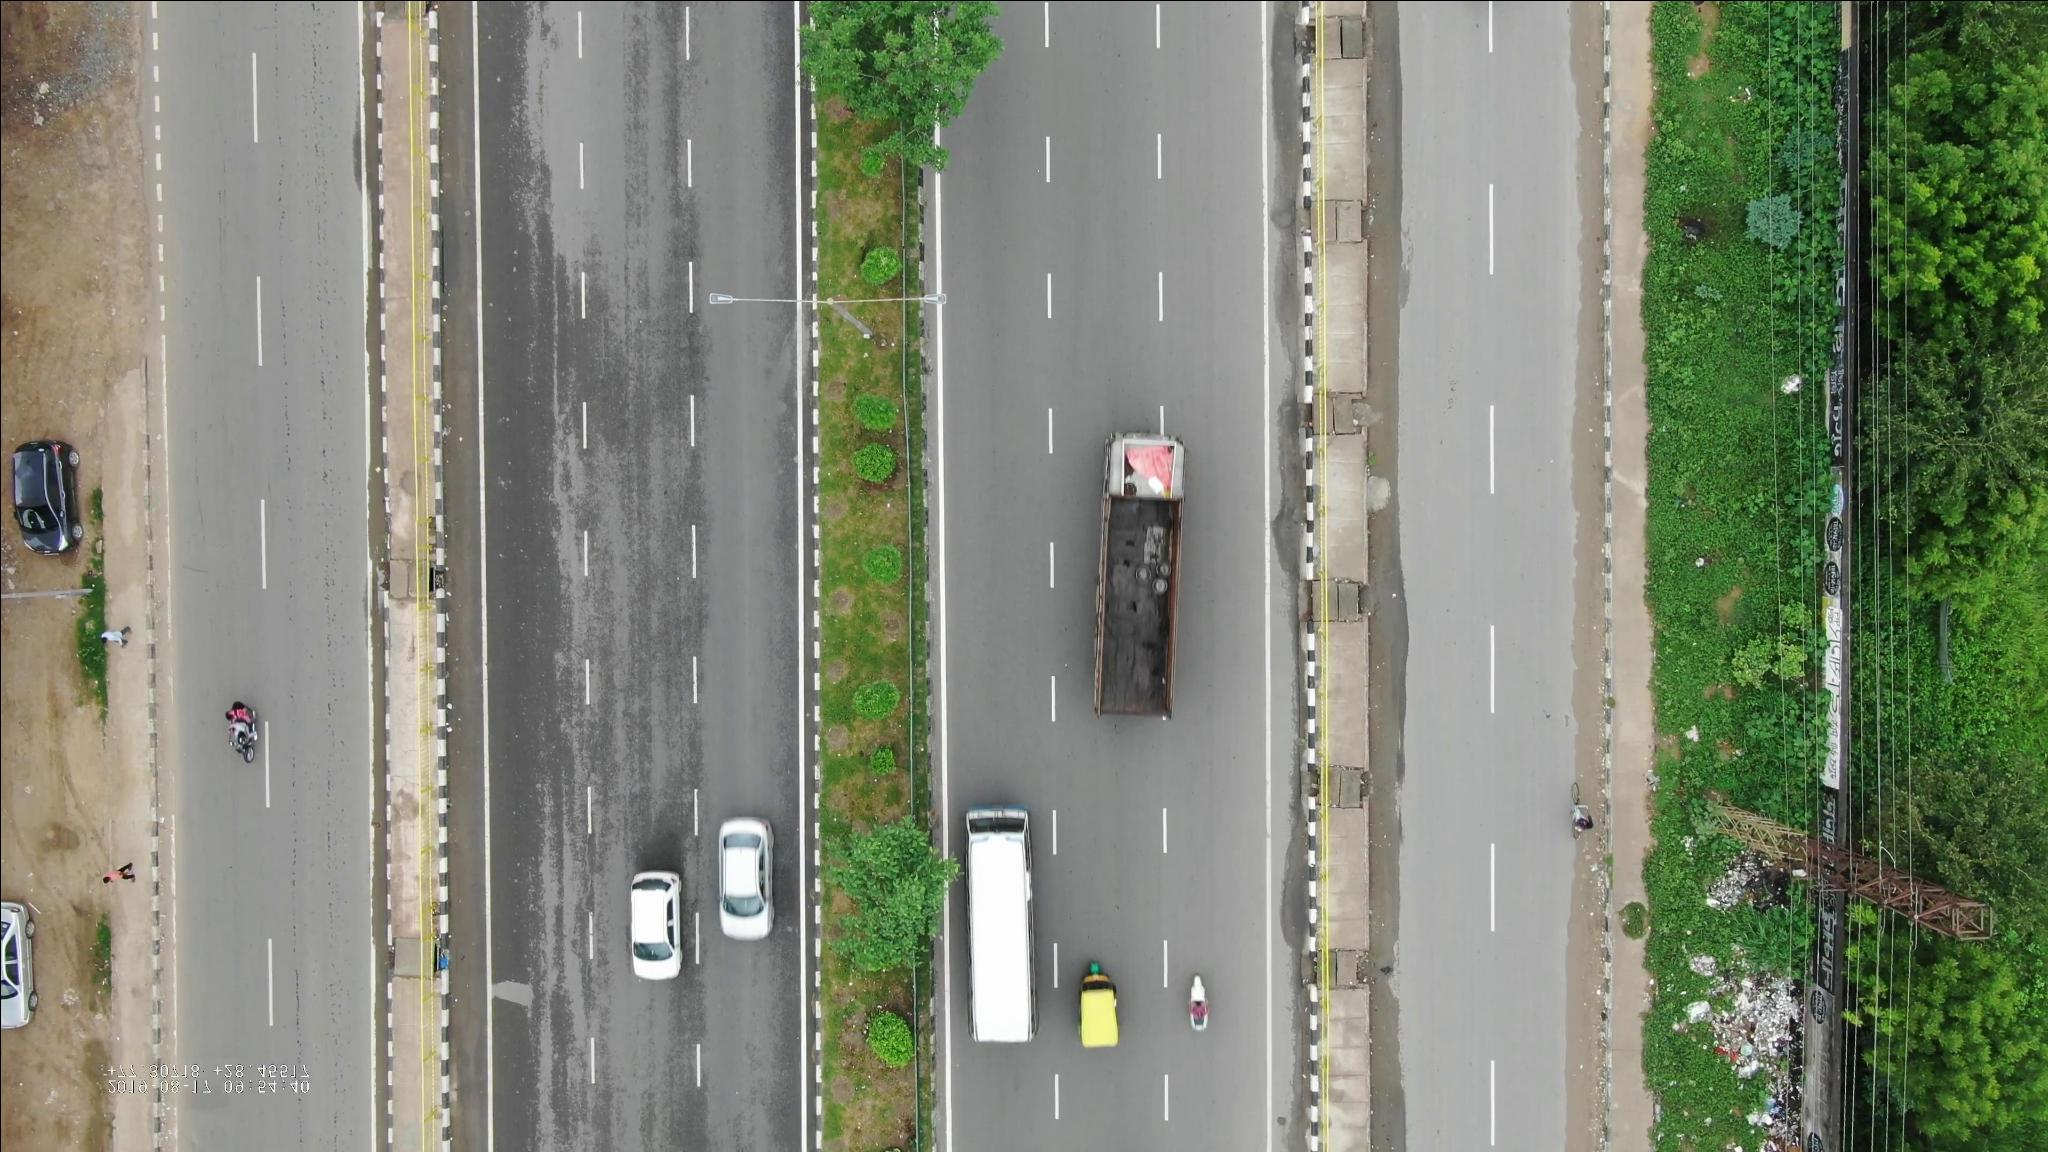Muddy_road: (96, 75, 160, 328), (1556, 949, 1618, 1146), (1561, 543, 1609, 775), (1561, 288, 1609, 520)
Road_side_garbage: (1663, 868, 1796, 1101)
